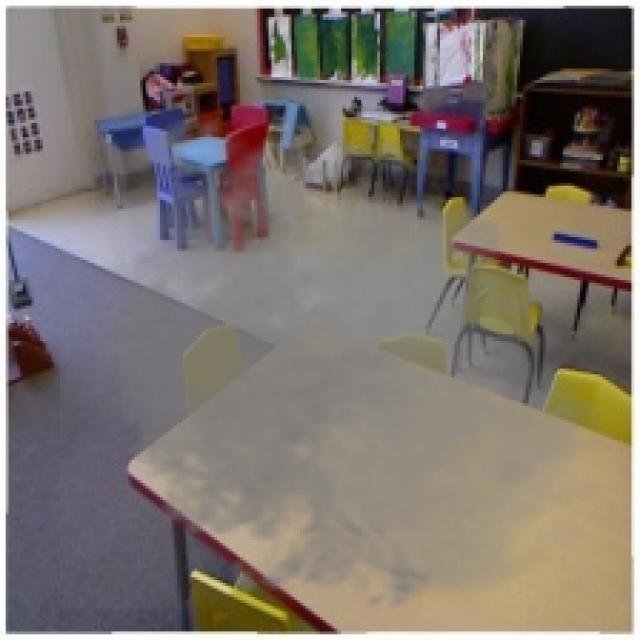smoke: (60, 103, 629, 620)
